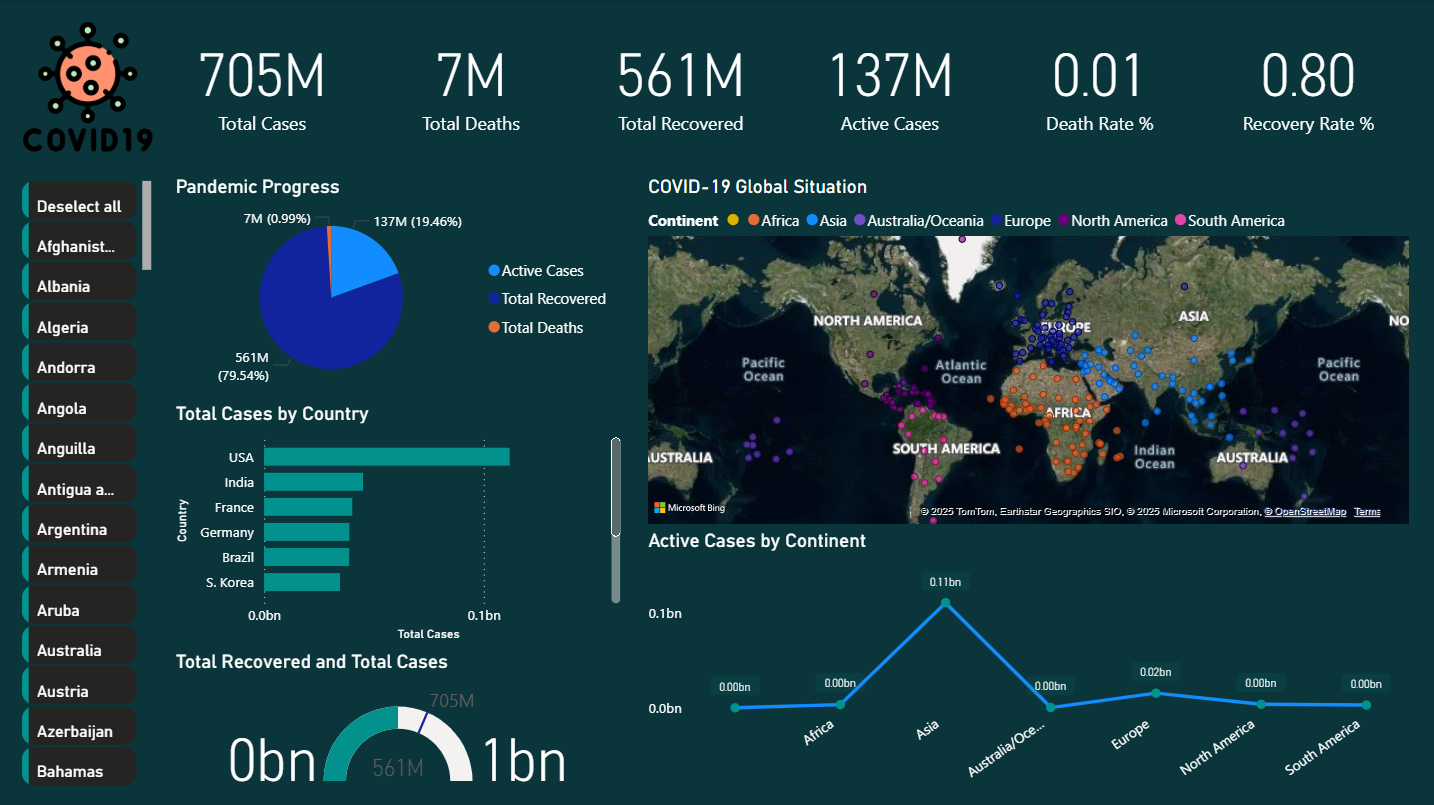

The dashboard page shown, as its layout file describes it:
{"tool":"powerbi","page":{"name":"Page 1","canvas":[1280,720],"ordinal":0},"visuals":[{"type":"image","box":[16.2,16.2,125,125],"z":0},{"type":"card","fields":{"Values":["Table 1.Total Cases"]},"box":[141.1,4.9,186.5,136.2],"z":1000},{"type":"card","fields":{"Values":["Table 1.Total Deaths"]},"box":[327.6,4.9,186.5,136.2],"z":2000},{"type":"card","fields":{"Values":["Table 1.Total Recovered"]},"box":[514.1,4.9,186.5,136.2],"z":3000},{"type":"card","fields":{"Values":["Table 1.Death Rate %"]},"box":[887.1,4.9,186.5,136.2],"z":4000},{"type":"card","fields":{"Values":["Table 1.Recovery Rate %"]},"box":[1073.6,4.9,186.5,136.2],"z":5000},{"type":"clusteredBarChart","fields":{"Category":["Table 1.Country"],"Y":["Table 1.Total Cases"]},"box":[152.1,359.5,406.1,218.4],"z":6000},{"type":"pieChart","title":"Pandemic Progress","fields":{"Y":["Table 1.Active Cases","Sum(Table 1.TotalRecovered)","Sum(Table 1.TotalDeaths)"]},"box":[152.1,158.3,406.1,198.8],"z":7000},{"type":"map","title":"COVID-19 Global Situation","fields":{"Category":["Table 1.Country"],"Series":["Table 1.Continent"]},"box":[573,158.3,687.1,315.3],"z":8000},{"type":"advancedSlicerVisual","fields":{"Values":["Table 1.Country"]},"box":[16,158.3,125.2,550.9],"z":9000},{"type":"gauge","fields":{"Y":["Table 1.Total Recovered"],"TargetValue":["Table 1.Total Cases"]},"box":[152.1,581.6,406.1,126.4],"z":10000},{"type":"card","fields":{"Values":["Table 1.Active Cases"]},"box":[700.6,4.9,186.5,136.2],"z":11000},{"type":"lineChart","fields":{"Category":["Table 1.Continent","Table 1.Country"],"Y":["Table 1.Active Cases"]},"box":[573,473.6,687.1,234.4],"z":12000}]}

Visuals, with their boxes in screenshot pixels (x1, y1, x2, y2), scaled from the page's 1280x720 canvas onto the 1434x805 screenshot:
image: region(18, 18, 158, 158)
card - Table 1.Total Cases: region(158, 5, 367, 158)
card - Table 1.Total Deaths: region(367, 5, 576, 158)
card - Table 1.Total Recovered: region(576, 5, 785, 158)
card - Table 1.Death Rate %: region(994, 5, 1203, 158)
card - Table 1.Recovery Rate %: region(1203, 5, 1412, 158)
clusteredBarChart - Table 1.Country x Table 1.Total Cases: region(170, 402, 625, 646)
"Pandemic Progress" pieChart: region(170, 177, 625, 399)
"COVID-19 Global Situation" map: region(642, 177, 1412, 530)
advancedSlicerVisual - Table 1.Country: region(18, 177, 158, 793)
gauge - Table 1.Total Recovered x Table 1.Total Cases: region(170, 650, 625, 792)
card - Table 1.Active Cases: region(785, 5, 994, 158)
lineChart - Table 1.Continent x Table 1.Country: region(642, 530, 1412, 792)
